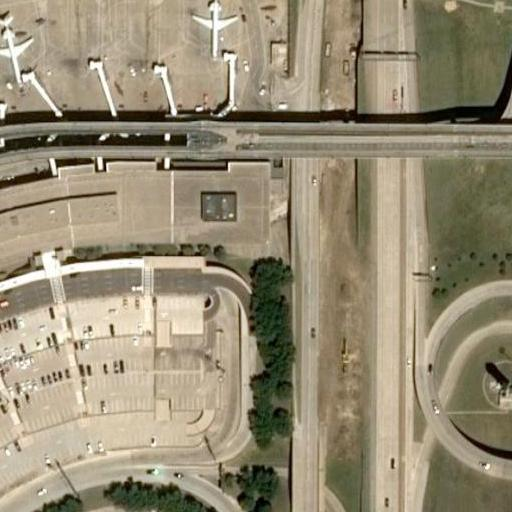Aircraft: (185, 0, 240, 50), (0, 8, 31, 72)
